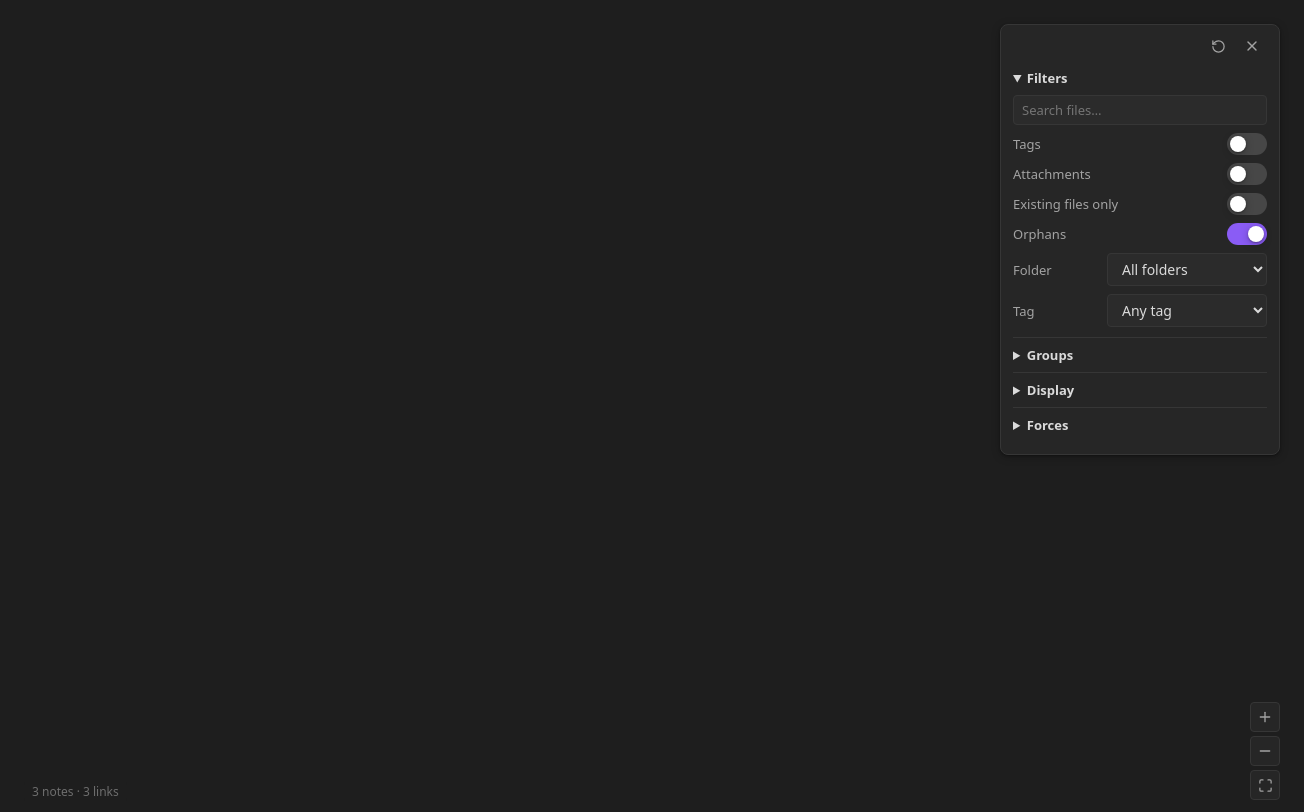
Test: graph view (ROADMAP item 16) › shows the graph with its counts and applies the filters
Expected: the text "3 notes · 3 links" is shown, left=24, top=781, right=127, bottom=802
Click the switch named "Attachments": (1247, 174) left=1227, top=163, right=1267, bottom=185
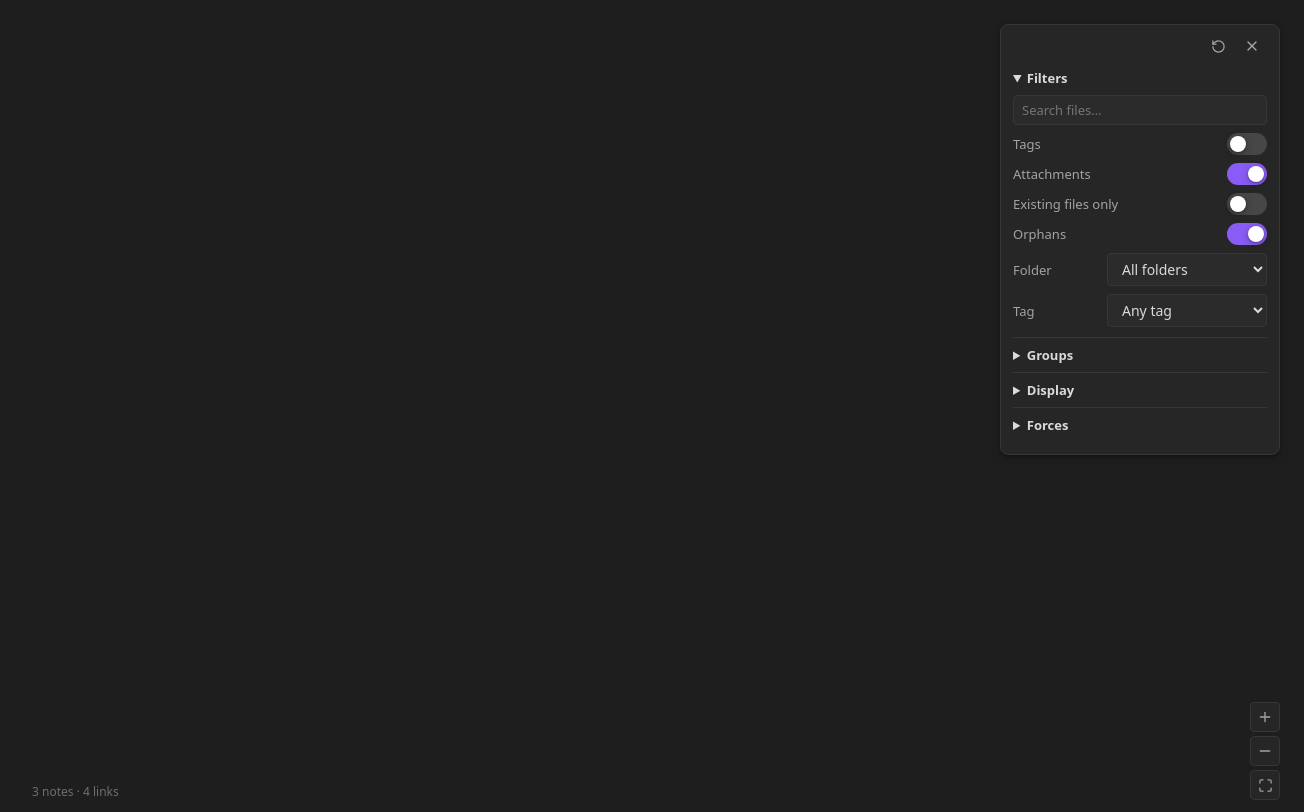
Expected: the picture named "Graph of 3 notes and 4 links" is shown
Click the switch named "Existing files only": (1247, 204) left=1227, top=193, right=1267, bottom=215
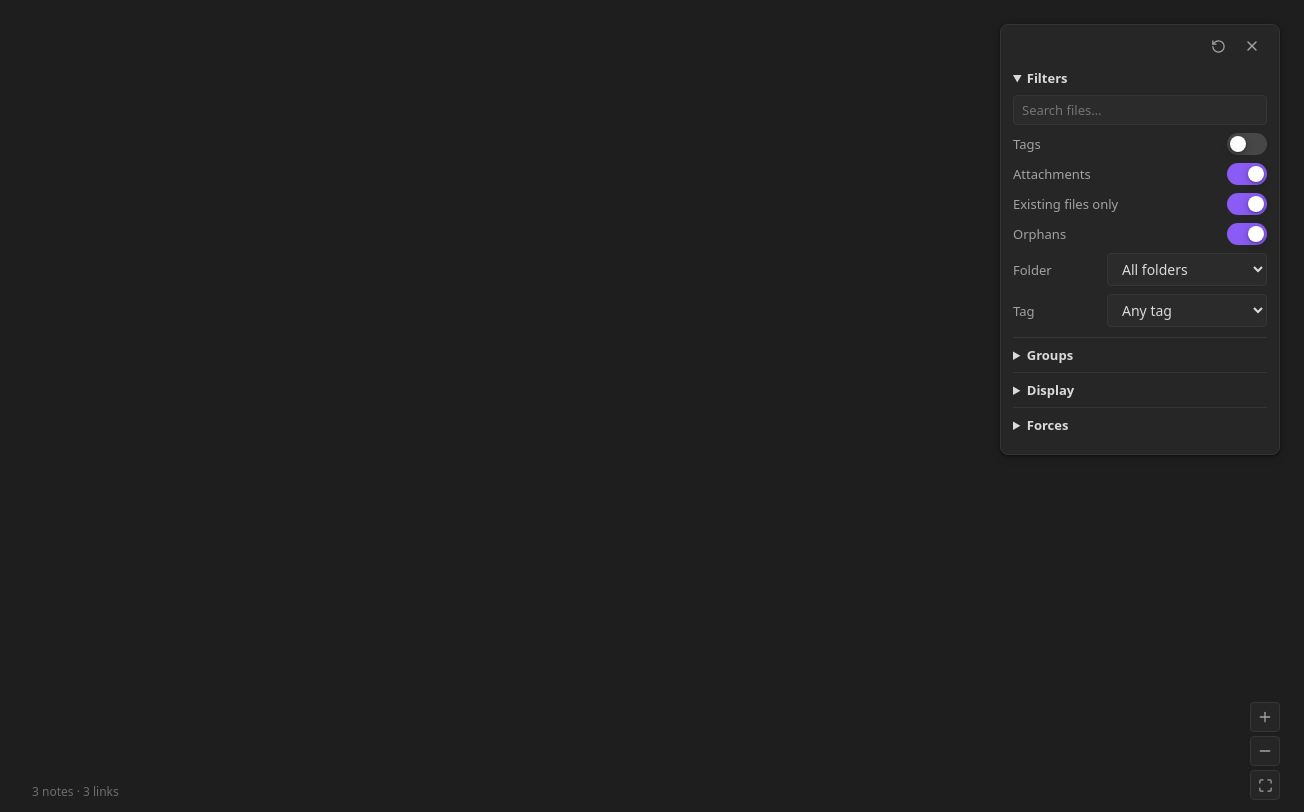
Expected: the picture named "Graph of 3 notes and 3 links" is shown
In the search field labelled "Search files…": (1140, 110) left=1013, top=95, right=1267, bottom=125, type "tag:project"
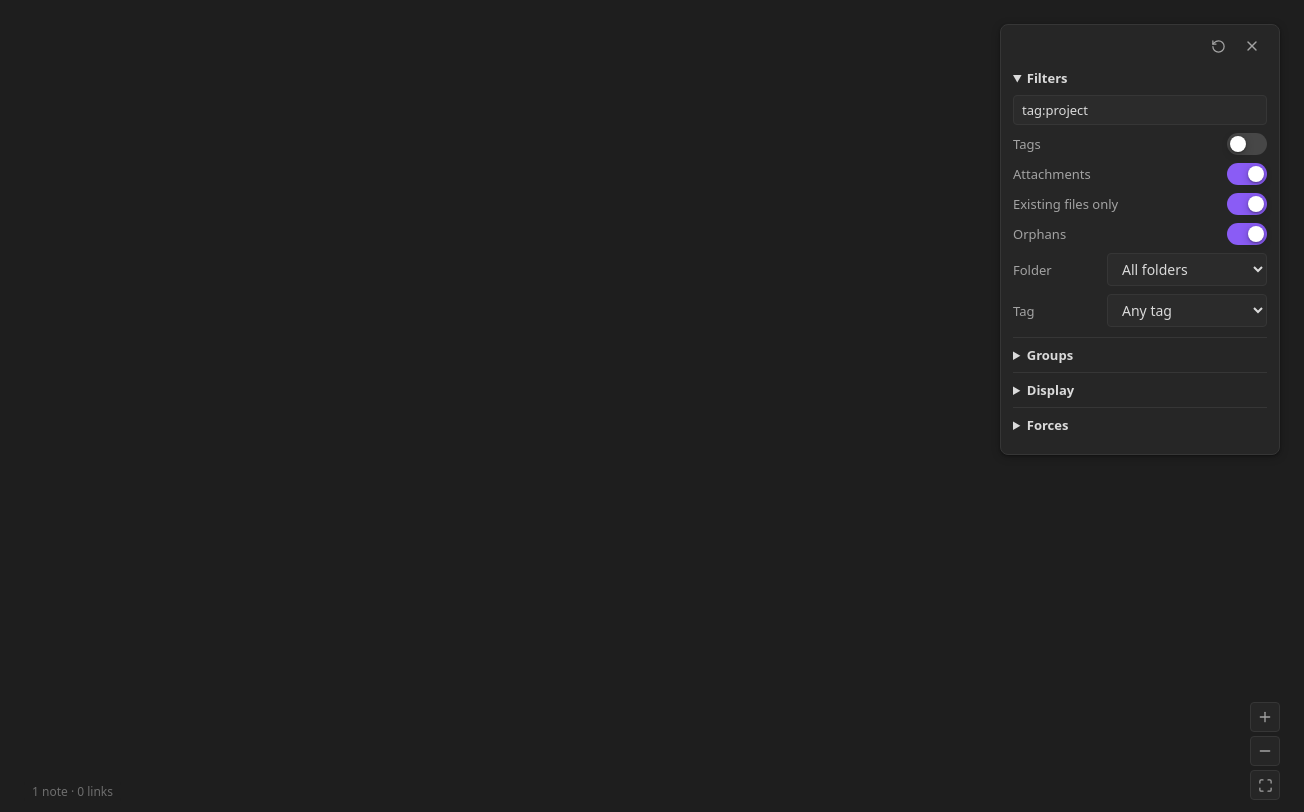
Expected: the picture named "Graph of 1 notes and 0 links" is shown
Clear the search field named "Search files": (1140, 110) left=1013, top=95, right=1267, bottom=125
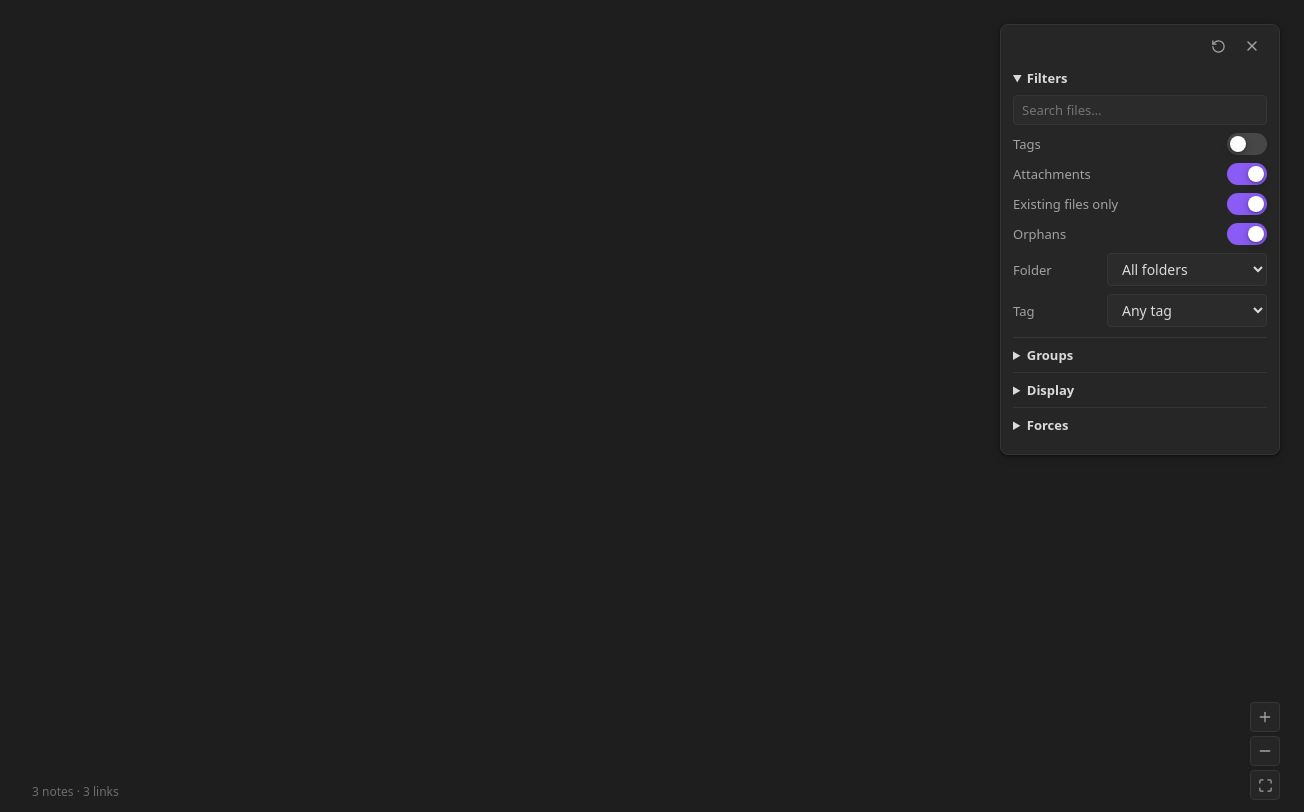
Select "Daily" in the dropdown named "Only notes in folder": (1187, 270) left=1107, top=253, right=1267, bottom=286
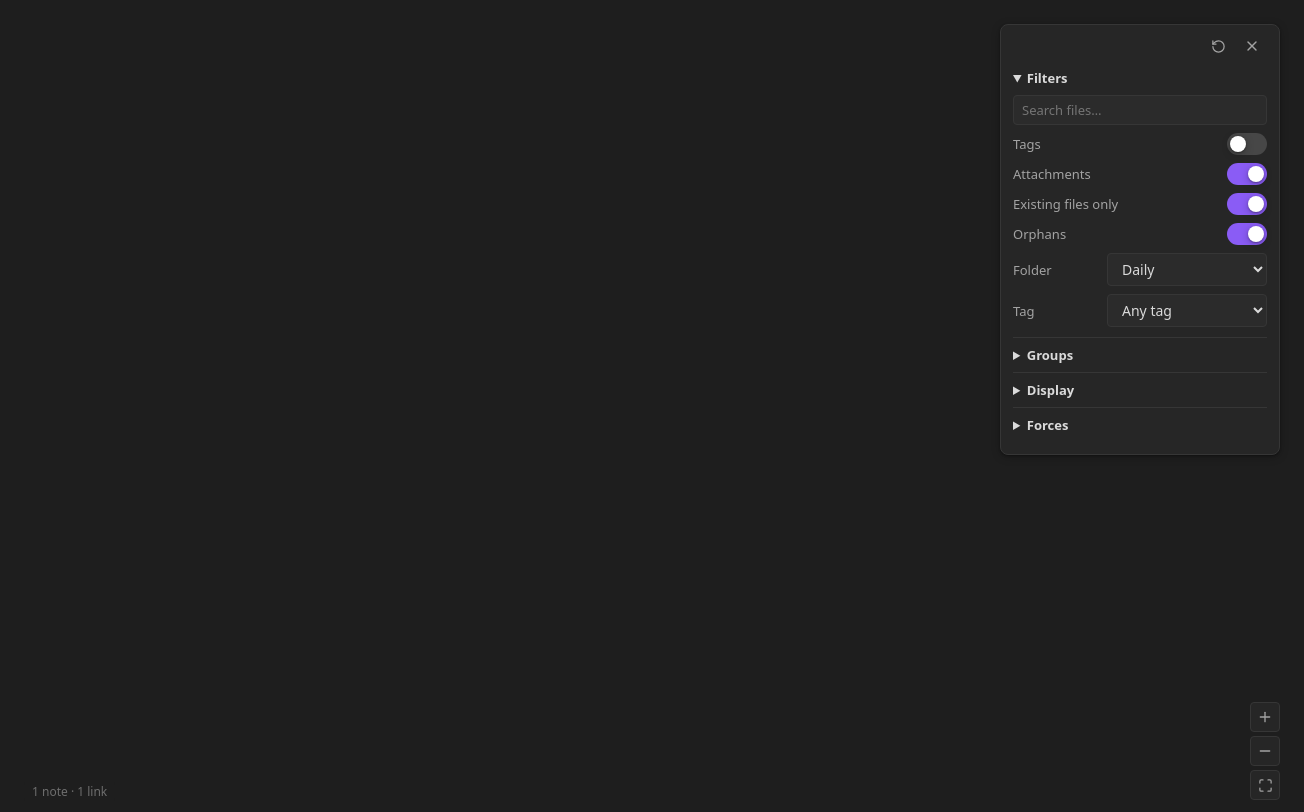
Expected: the picture named "Graph of 1 notes and 1 links" is shown
